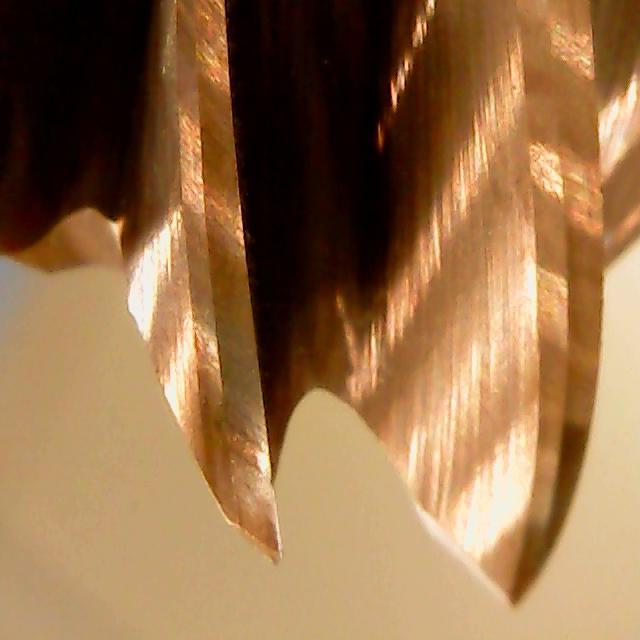Tool-wear-class-0: (188, 248, 292, 572)
